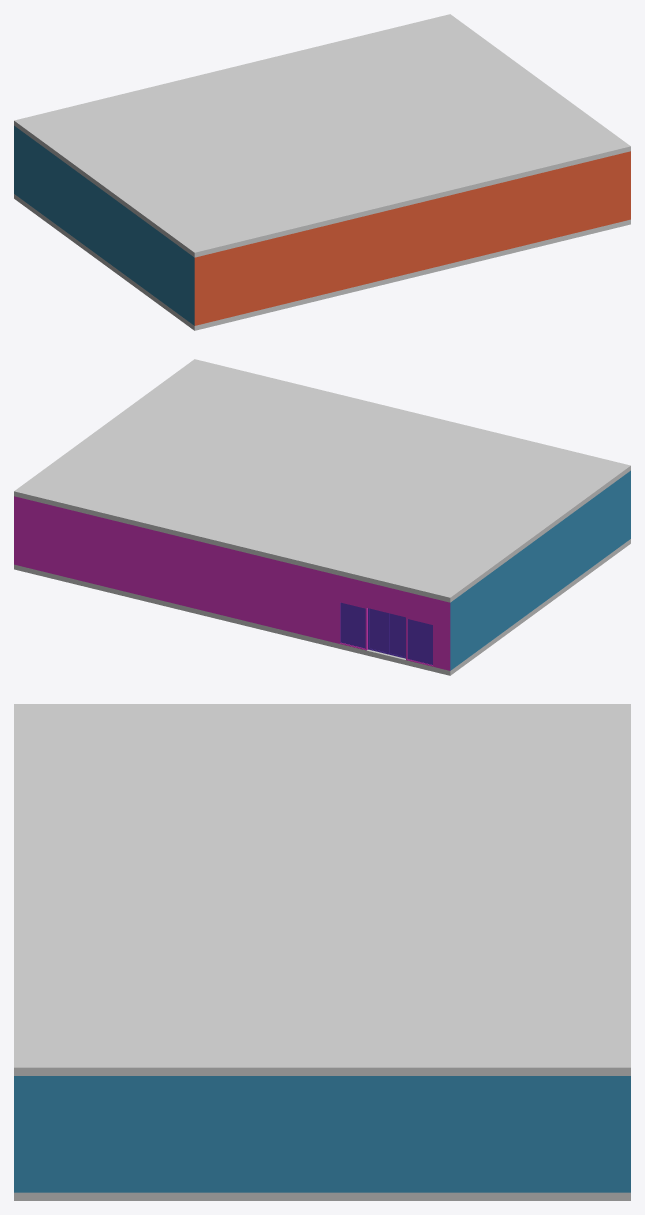
Rendered from Level01.FBX.
The picture shows the model from 3 angles, top to bottom: view 1: azimuth 30°, elevation 25°; view 2: azimuth 150°, elevation 25°; view 3: azimuth 270°, elevation 25°; orthographic projection. The views are drawn at different scales.
Parts seen in each view (by area): view 1: Box001, Object008, Object009, Box002; view 2: Box001, Object010, Object009, Box002, Object002, Object004, Glass001, Glass002; view 3: Box001, Object007, Box002.
Boxes of the visible parts, left/top/right/bottom form: Box001: left=14, top=14, right=630, bottom=257; Object008: left=194, top=151, right=630, bottom=325; Object009: left=14, top=125, right=194, bottom=325; Box002: left=14, top=194, right=630, bottom=330; Box001: left=14, top=359, right=630, bottom=602; Object010: left=14, top=496, right=450, bottom=670; Object009: left=450, top=470, right=630, bottom=670; Box002: left=14, top=539, right=630, bottom=675; Object002: left=340, top=602, right=365, bottom=648; Object004: left=407, top=619, right=432, bottom=664; Glass001: left=369, top=608, right=386, bottom=652; Glass002: left=389, top=613, right=405, bottom=656; Box001: left=14, top=704, right=630, bottom=1075; Object007: left=14, top=1076, right=630, bottom=1192; Box002: left=14, top=1192, right=630, bottom=1200.
Size of the model in its own units: 3340 by 571 by 2395.
